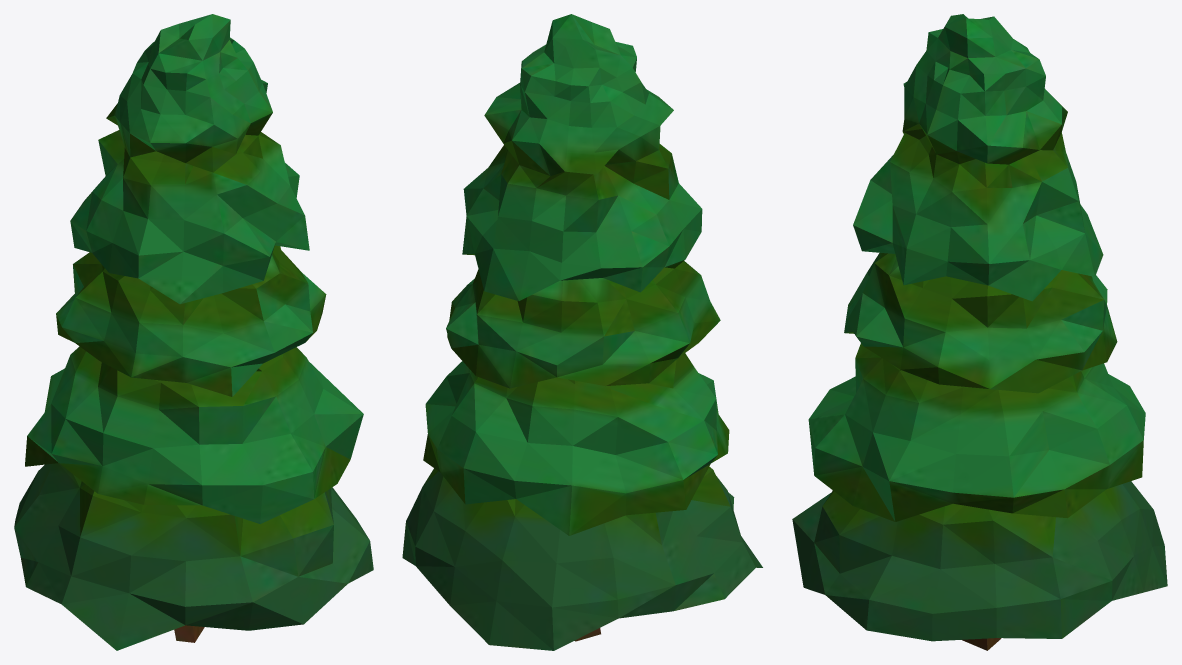
Rendered from tree1.glb.
The picture shows the model from 3 angles, left to right: view 1: azimuth 30°, elevation 25°; view 2: azimuth 150°, elevation 25°; view 3: azimuth 270°, elevation 25°; orthographic projection. The views are drawn at different scales.
Parts seen in each view (by area): view 1: car; view 2: car; view 3: car.
Boxes of the visible parts, x1,y1,x2,y2 form: car: (14,14,373,650); car: (402,14,762,650); car: (792,14,1167,650).
Bounding box in the file's own units: 0.7483 × 1.45 × 0.7799.
1 material, 1 textured.
